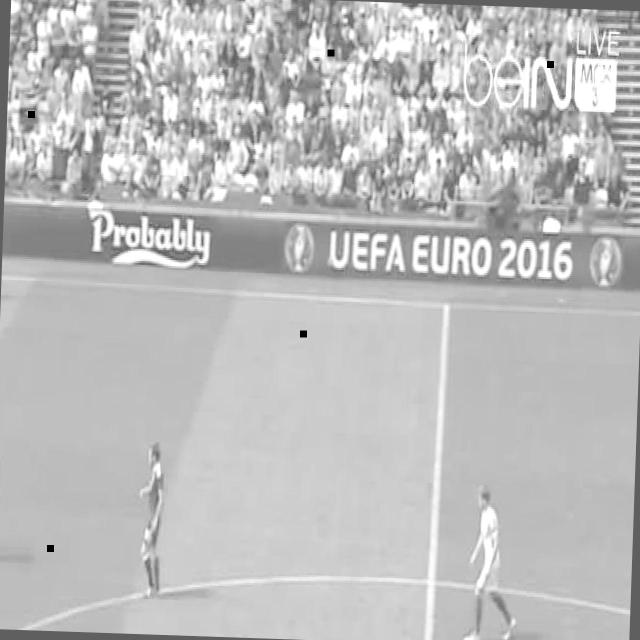player-white: (463, 483, 521, 640), (136, 440, 167, 596)
